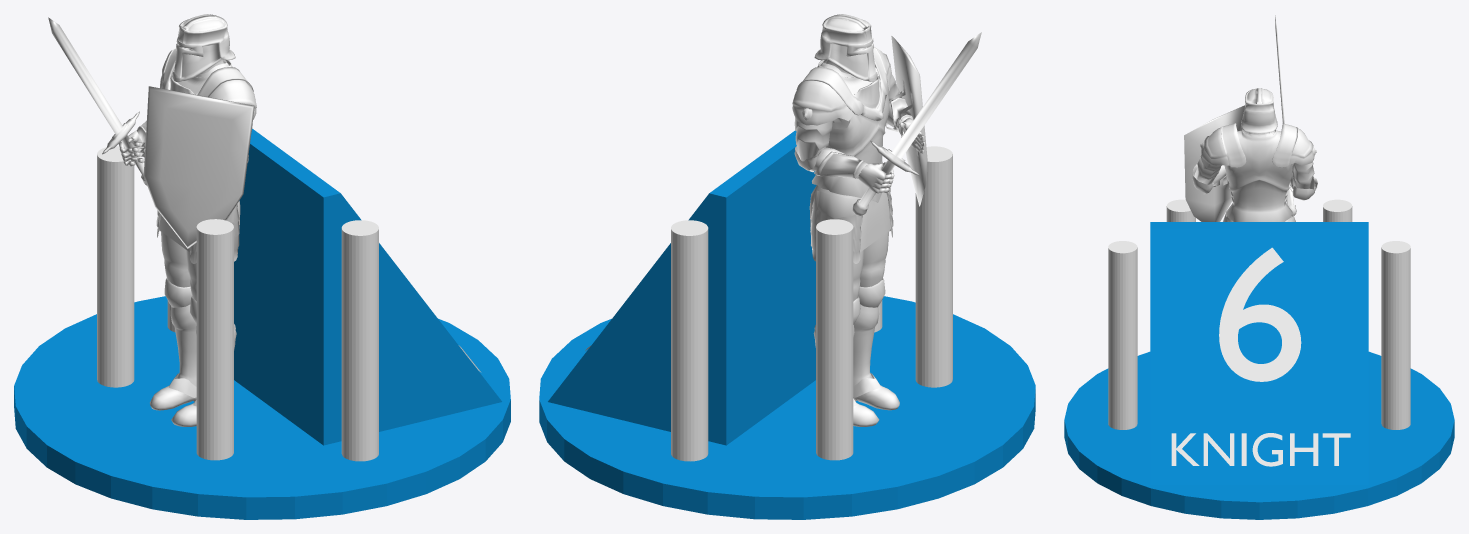
The model's file is TCKnight6.fbx.
The picture shows the model from 3 angles, left to right: view 1: azimuth 30°, elevation 25°; view 2: azimuth 150°, elevation 25°; view 3: azimuth 270°, elevation 25°; orthographic projection. The views are drawn at different scales.
Parts seen in each view (by area): view 1: Knight6; view 2: Knight6; view 3: Knight6.
Part boxes in pixels (x1,y1,x2,y2): Knight6: (14, 14, 510, 519); Knight6: (539, 14, 1035, 519); Knight6: (1064, 15, 1454, 519).
Bounding box in the file's own units: 180 × 176 × 180.
